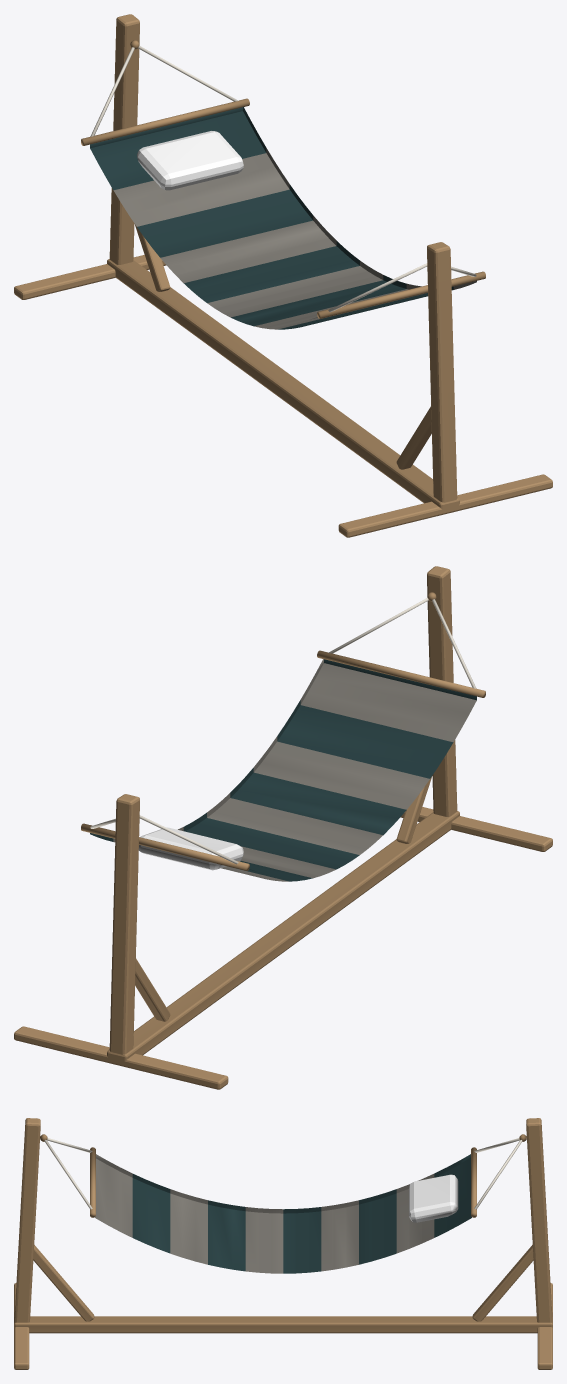
Rendered from hammock.glb.
The picture shows the model from 3 angles, top to bottom: view 1: azimuth 30°, elevation 25°; view 2: azimuth 150°, elevation 25°; view 3: azimuth 270°, elevation 25°; orthographic projection. The views are drawn at different scales.
Parts seen in each view (by area): view 1: sling, stand; view 2: sling, stand; view 3: sling, stand.
Part boxes in pixels (x1,y1,x2,y2): sling: (81, 46, 485, 329); stand: (14, 14, 552, 537); sling: (81, 598, 485, 881); stand: (14, 566, 552, 1089); sling: (44, 1138, 522, 1273); stand: (14, 1118, 552, 1369).
Size of the model in its own units: 1 by 1.2 by 2.8.
